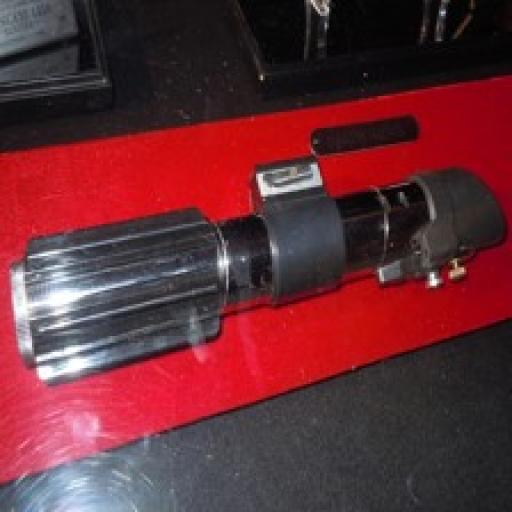lightsaber: (5, 153, 510, 384)
